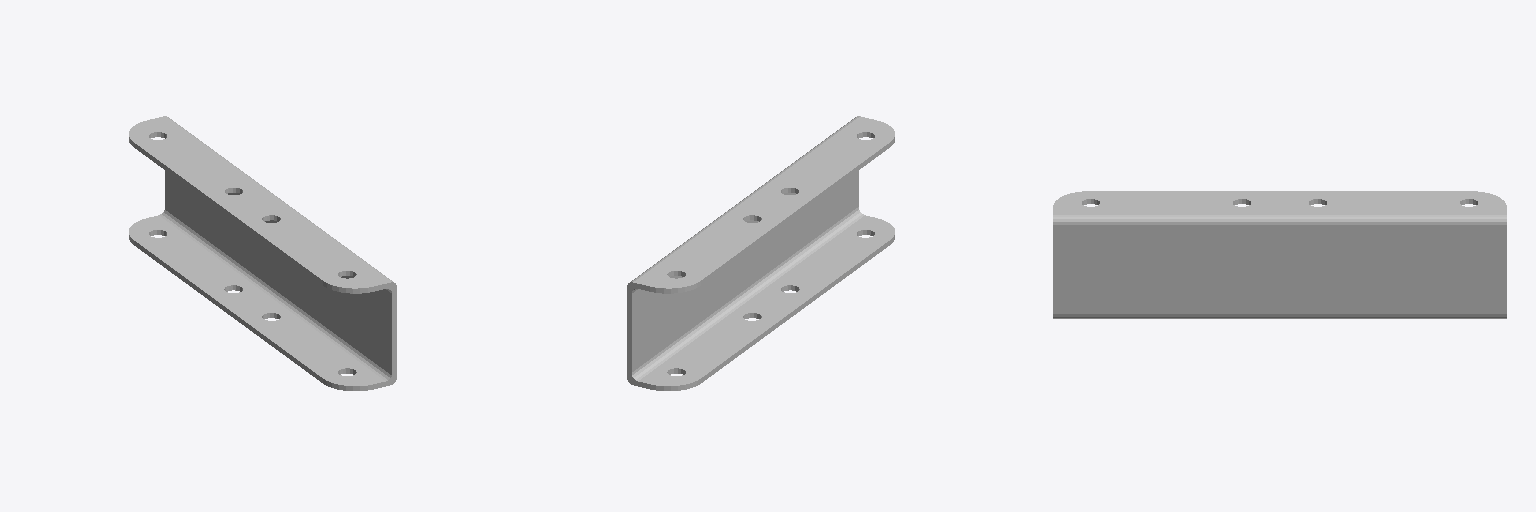
Rendered from uchwyt poreczy.obj.
The picture shows the model from 3 angles: view 1: azimuth 30°, elevation 25°; view 2: azimuth 150°, elevation 25°; view 3: azimuth 270°, elevation 25°; orthographic projection.
Parts seen in each view (by area): view 1: Bryła63; view 2: Bryła63; view 3: Bryła63.
Part boxes in pixels (x1,y1,x2,y2): Bryła63: (129, 116, 396, 390); Bryła63: (627, 116, 894, 390); Bryła63: (1053, 191, 1506, 318).
Bounding box in the file's own units: 34 × 60 × 240.